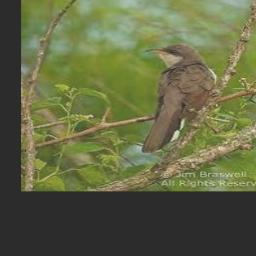Cuckoo: (141, 44, 218, 152)
